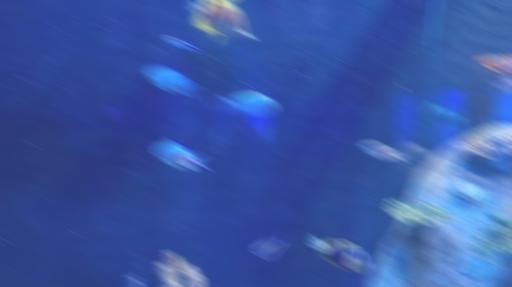Fish: (190, 0, 251, 41), (309, 236, 366, 271), (144, 66, 199, 95), (154, 141, 207, 168), (220, 92, 275, 114), (253, 232, 284, 257), (361, 142, 406, 159), (477, 56, 511, 73), (166, 37, 197, 50), (491, 77, 511, 94)
